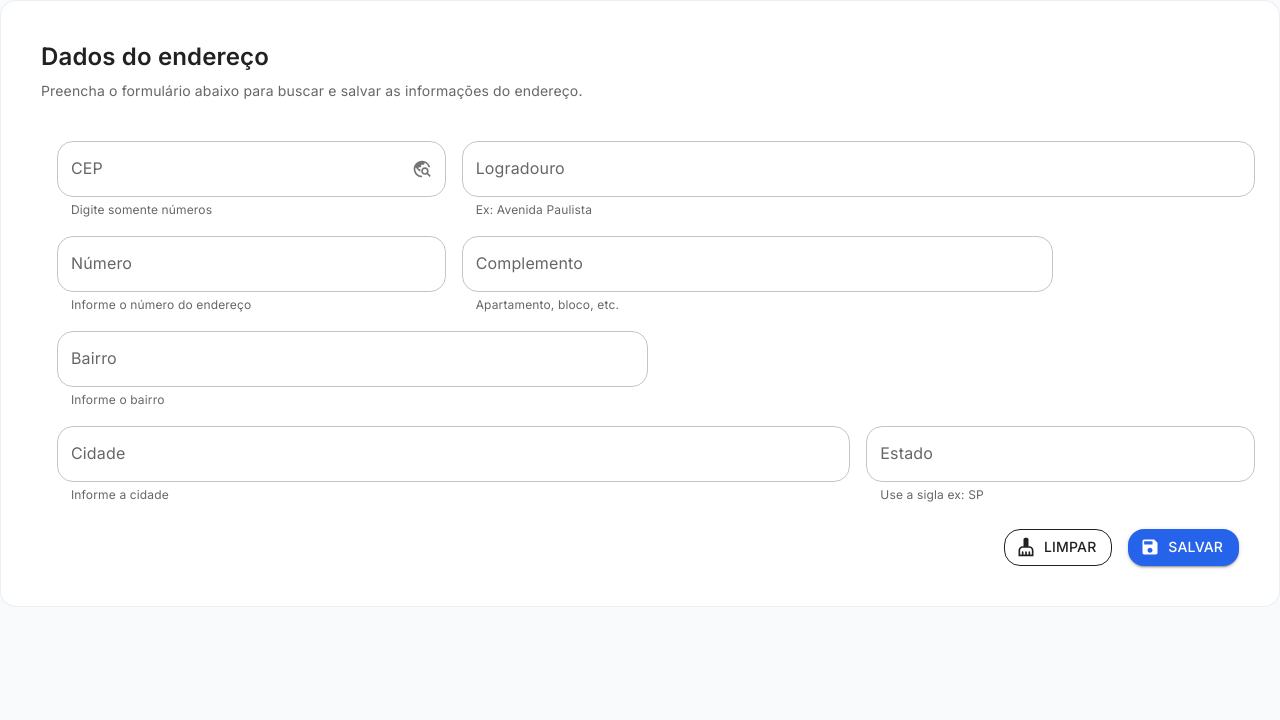
Test: CepForm › preenche automaticamente quando o CEP é encontrado
This screenshot has width=1280, height=720.
Type "01001000" into the field labelled "CEP". click: (230, 169)
box: [57, 141, 404, 197]
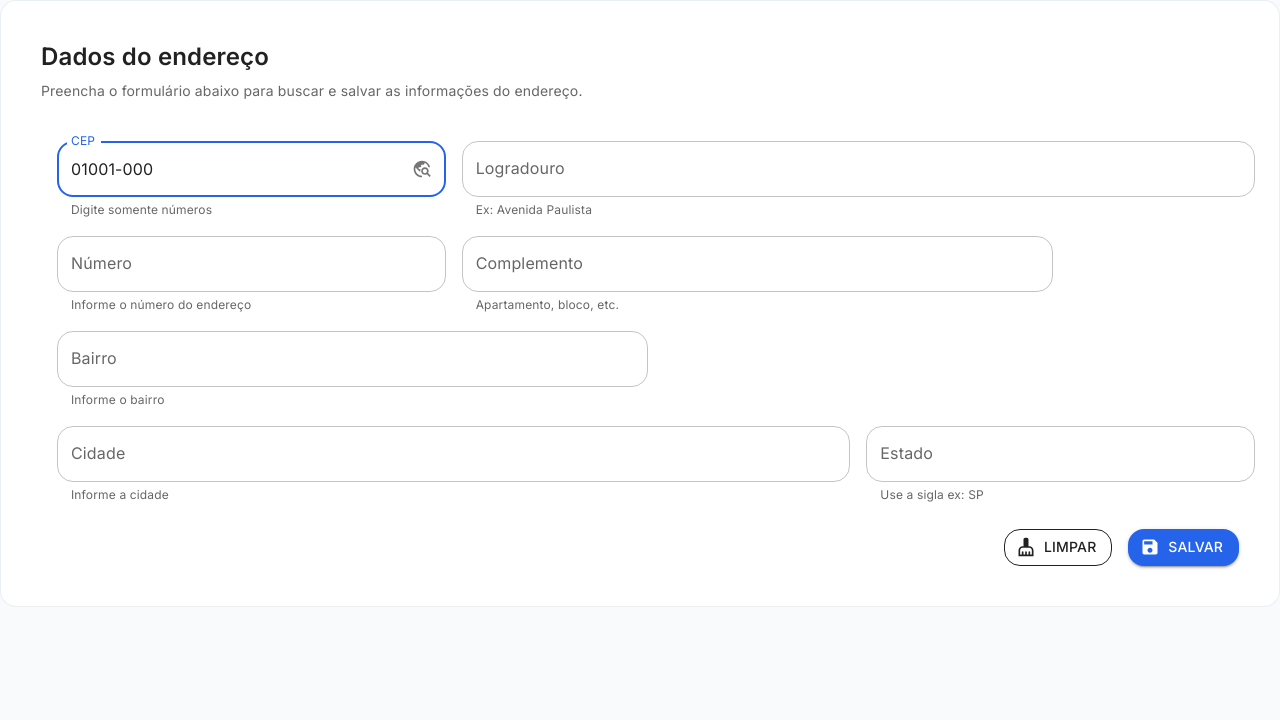
Press Tab
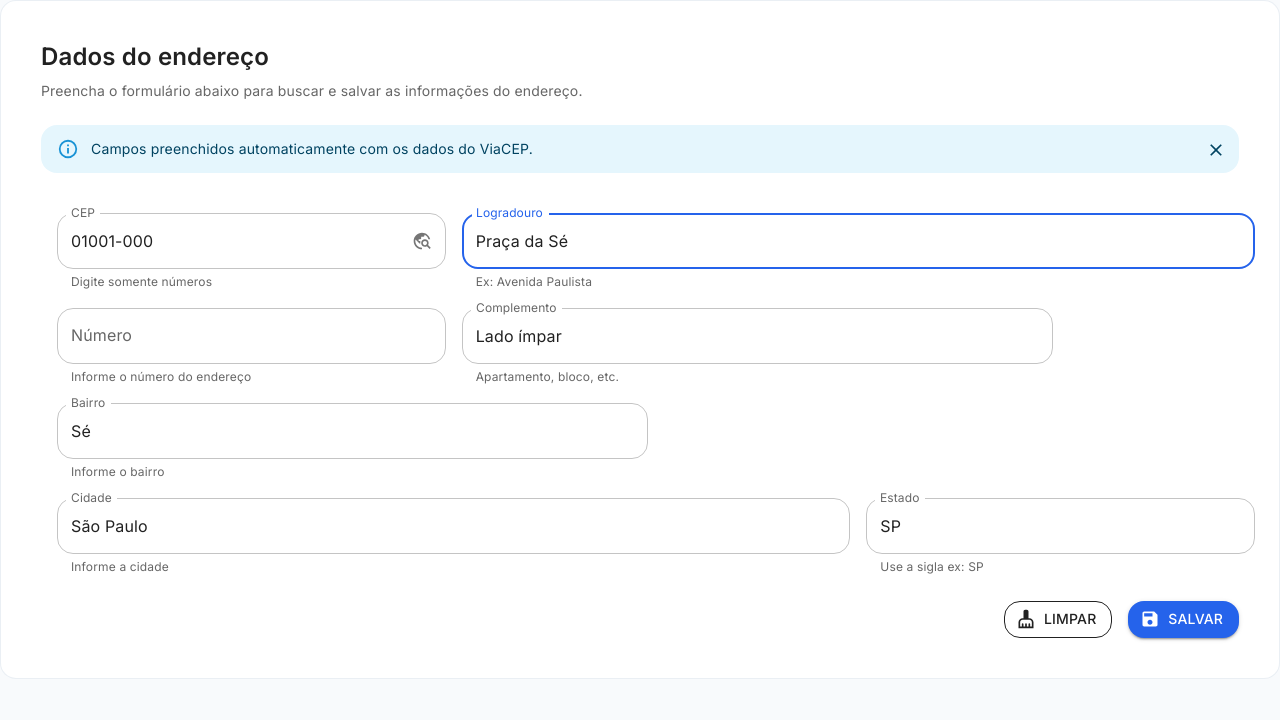
expect the field showing "Praça da Sé" is shown: met, box [462, 213, 1255, 269]
expect the field showing "São Paulo" is shown: met, box [57, 498, 850, 554]
expect the field showing "SP" is shown: met, box [866, 498, 1255, 554]
